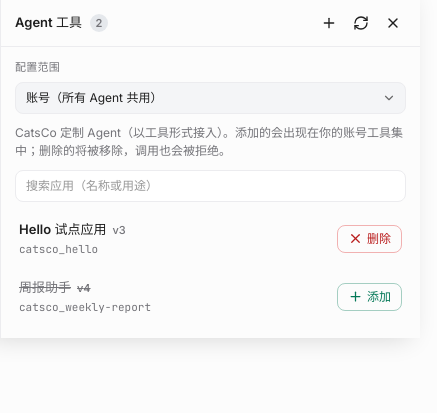
Scenario: ServiceAgentsPanel › adds a subscription back and shows the failure message on error
The width and height of the screenshot is (437, 413).
Click the button with aria-label "添加周报助手" at [370, 296], box [337,282,402,310]
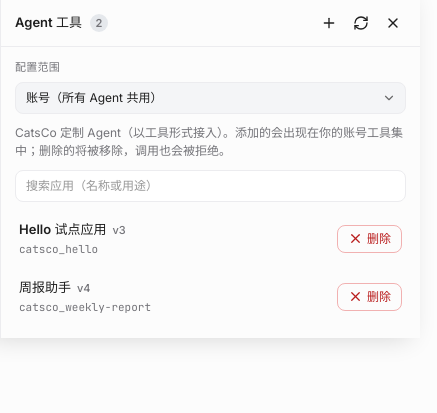
Click the button named "添加周报助手" at [370, 296], box [337,282,402,310]
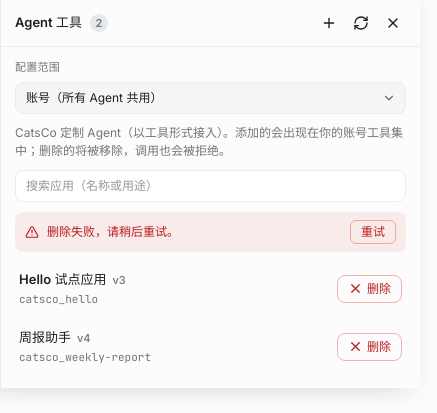
Expected: the button named "添加周报助手" is shown, [337,332,402,360]
Now the message "删除失败，请稍后重试。 重试" is shown, box [15,212,406,252]
